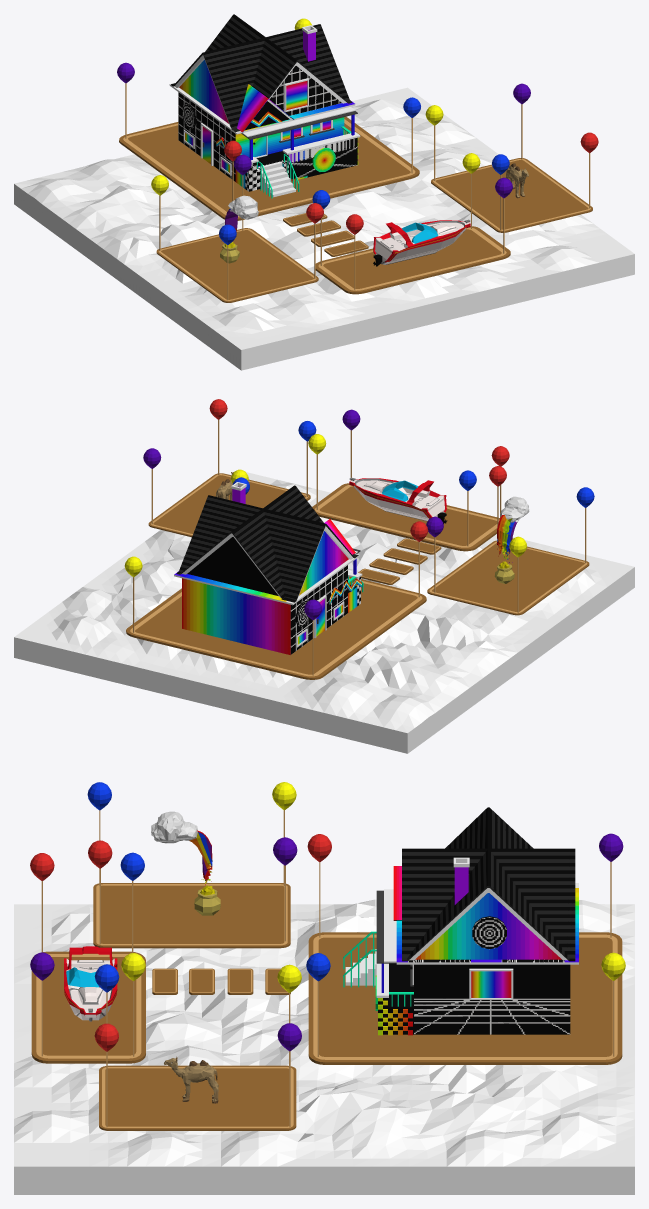
3 views of the same model, one above another, from view 1: azimuth 30°, elevation 25°; view 2: azimuth 150°, elevation 25°; view 3: azimuth 270°, elevation 25° (orthographic). The views are drawn at different scales.
Visible parts, largest first — view 1: Cube.013, Cube.1320, VEHICLES_BOAT, OBJRANDOM_RAINBOW; view 2: Cube.013, Cube.1320, VEHICLES_BOAT, OBJRANDOM_RAINBOW; view 3: Cube.013, Cube.1320, VEHICLES_BOAT, OBJRANDOM_RAINBOW, ANIMAL_CAMELLO.
Boxes of the visible parts, x1,y1,x2,y2 form: Cube.013: (14,18,634,370); Cube.1320: (169,14,360,198); VEHICLES_BOAT: (373,219,470,266); OBJRANDOM_RAINBOW: (220,195,258,263); Cube.013: (14,399,634,753); Cube.1320: (174,482,363,654); VEHICLES_BOAT: (349,477,447,523); OBJRANDOM_RAINBOW: (494,496,529,583); Cube.013: (14,782,634,1194); Cube.1320: (343,807,578,1035); VEHICLES_BOAT: (64,946,117,1021); OBJRANDOM_RAINBOW: (151,811,220,915); ANIMAL_CAMELLO: (164,1056,218,1103).
Bounding box in the file's own units: 4000 × 1704 × 4000.
34 materials, 3 textured.
